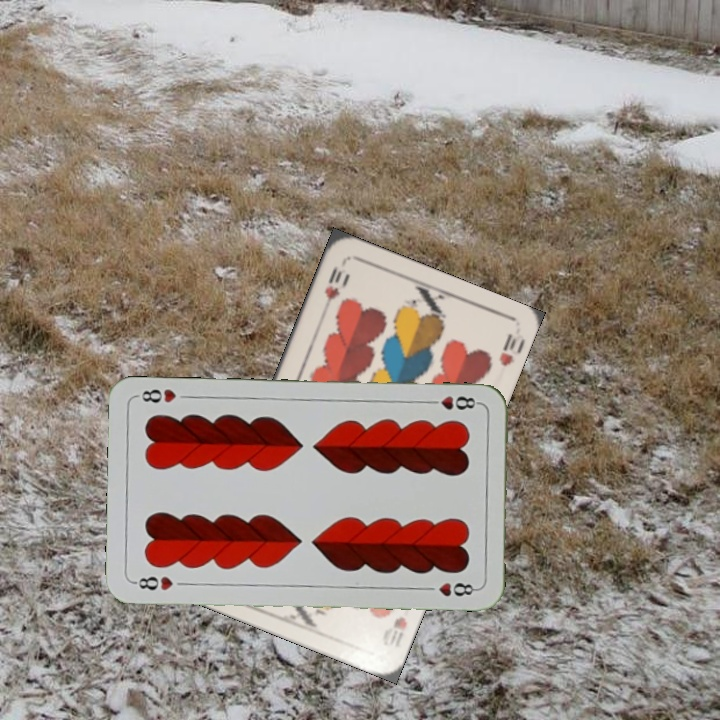H10: (318, 262, 345, 315), (389, 612, 410, 651)
H8: (423, 391, 482, 412), (130, 572, 176, 593)
